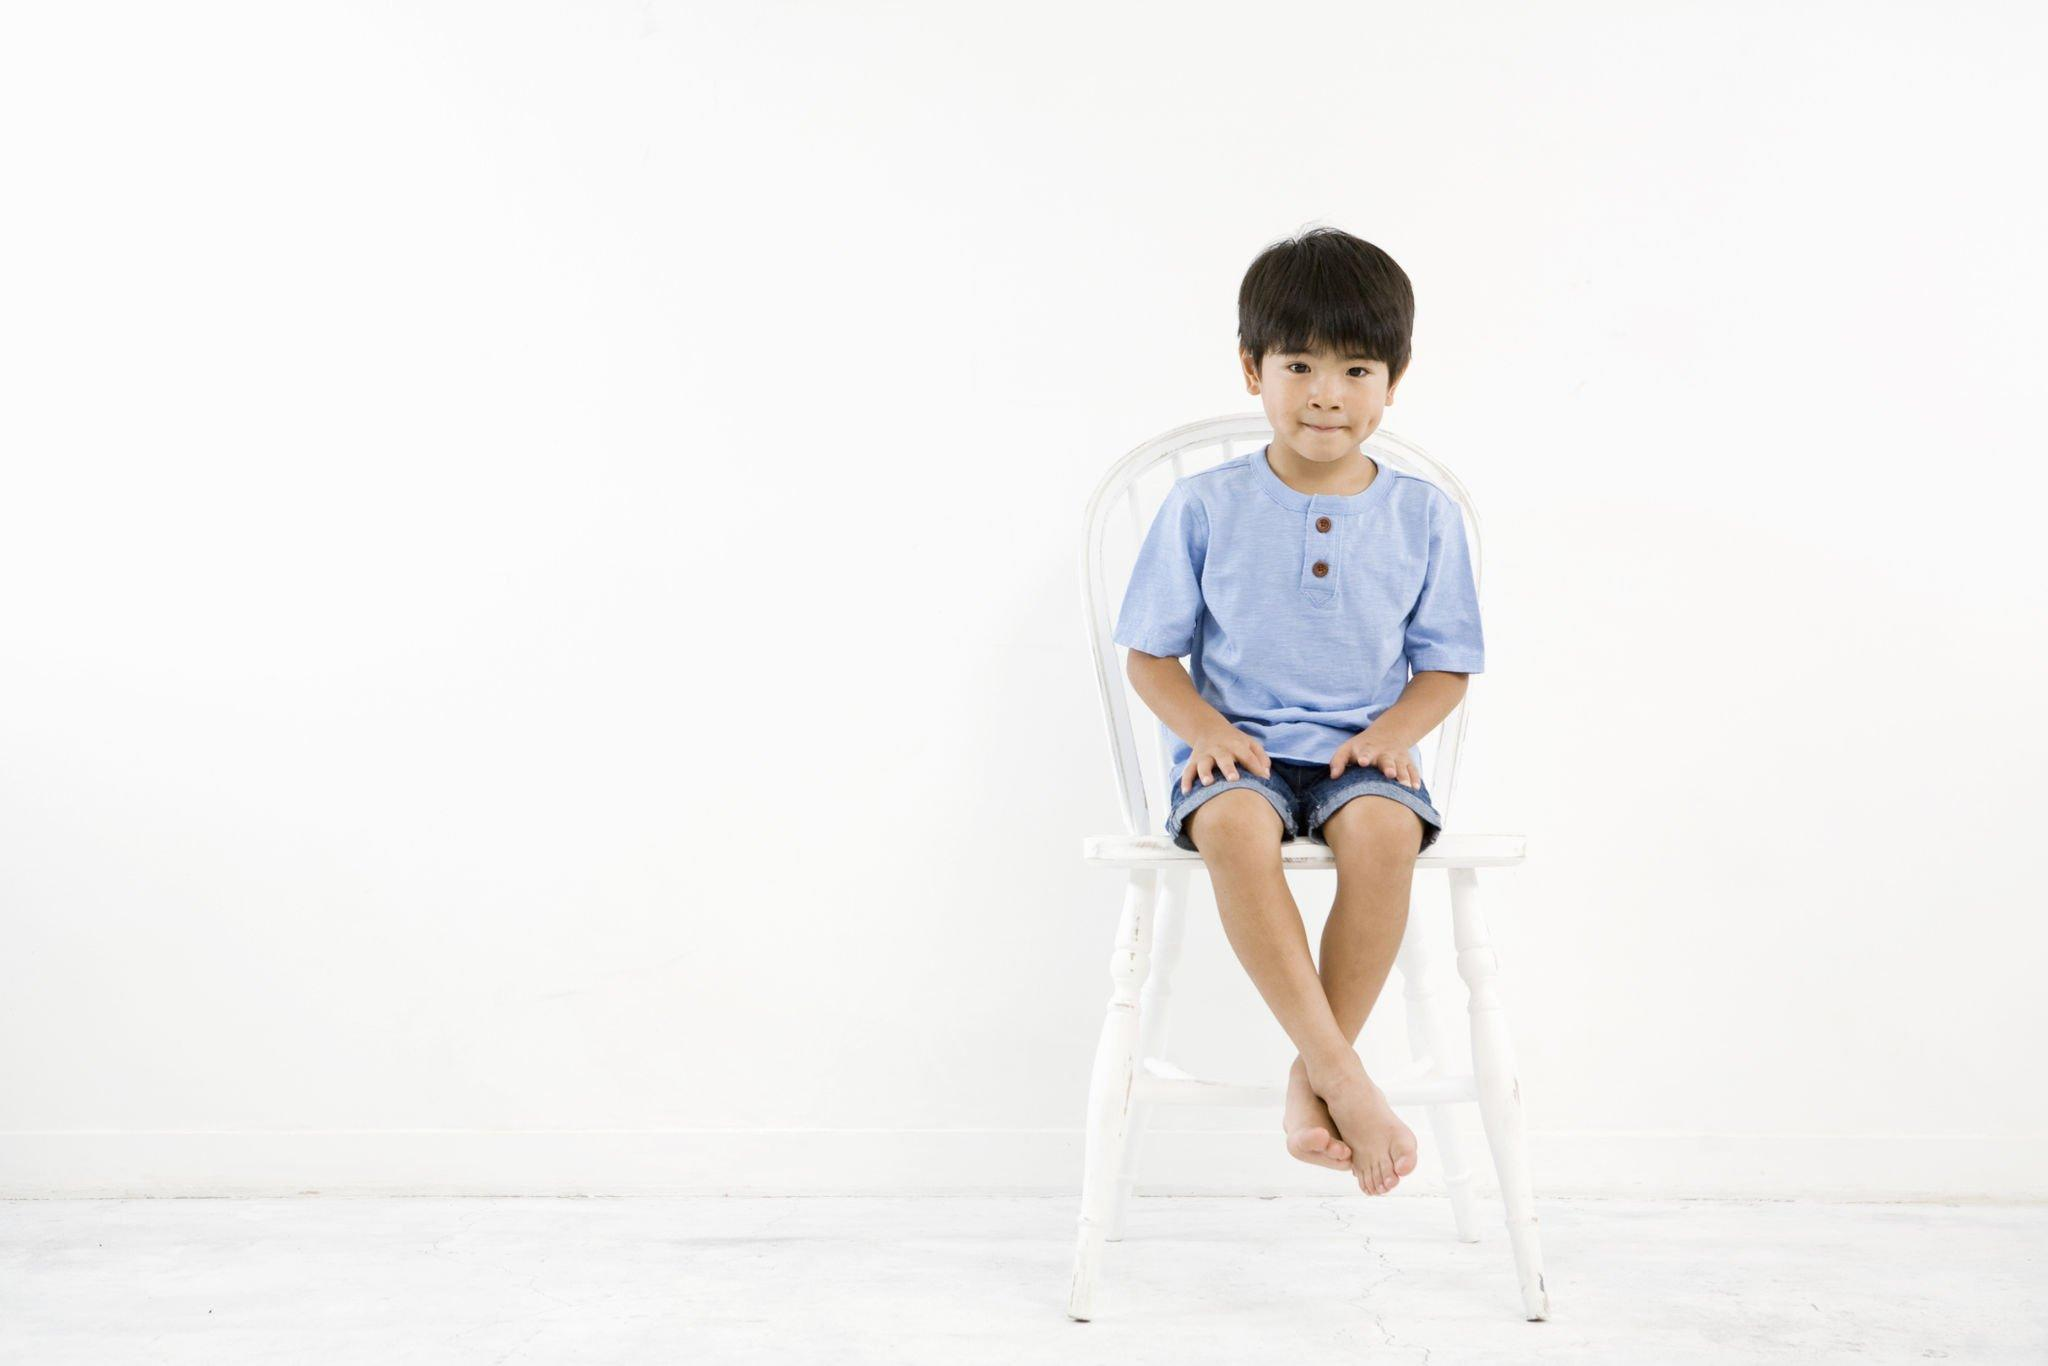Healthy: (1246, 297, 1410, 489)
